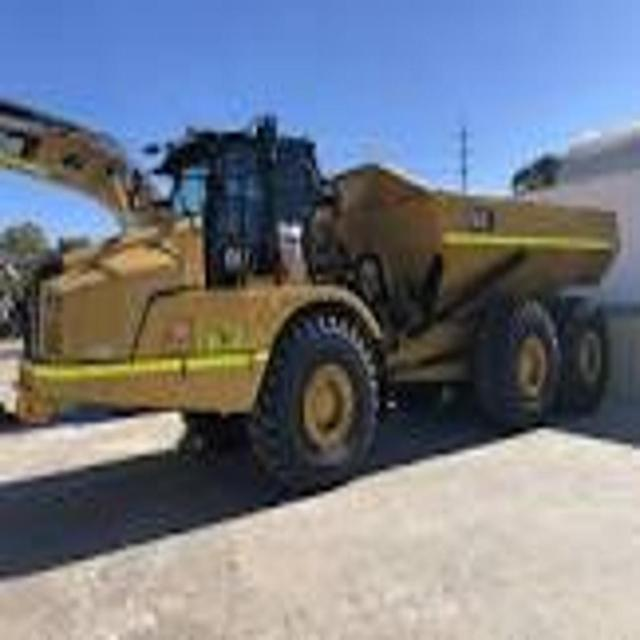dump_truck: (0, 107, 621, 499)
